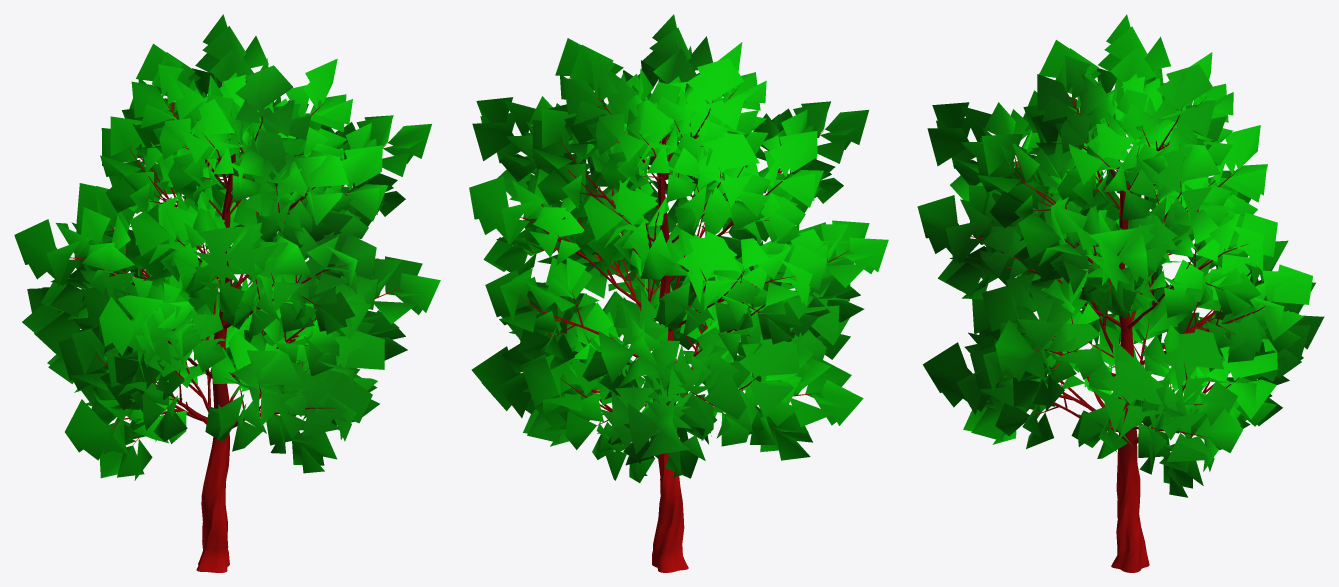
The picture shows the model from 3 angles, left to right: view 1: azimuth 30°, elevation 25°; view 2: azimuth 150°, elevation 25°; view 3: azimuth 270°, elevation 25°; orthographic projection.
Visible parts, largest first — view 1: Leaves, Bark; view 2: Leaves, Bark; view 3: Leaves, Bark.
Part boxes in pixels (x1=…): Leaves: x1=14, y1=14, x2=440, y2=480; Bark: x1=70, y1=95, x2=399, y2=572; Leaves: x1=469, y1=14, x2=888, y2=482; Bark: x1=519, y1=86, x2=849, y2=572; Leaves: x1=917, y1=14, x2=1324, y2=497; Bark: x1=971, y1=90, x2=1272, y2=572.
Bounding box in the file's own units: 2.89 × 3.8 × 2.68.
